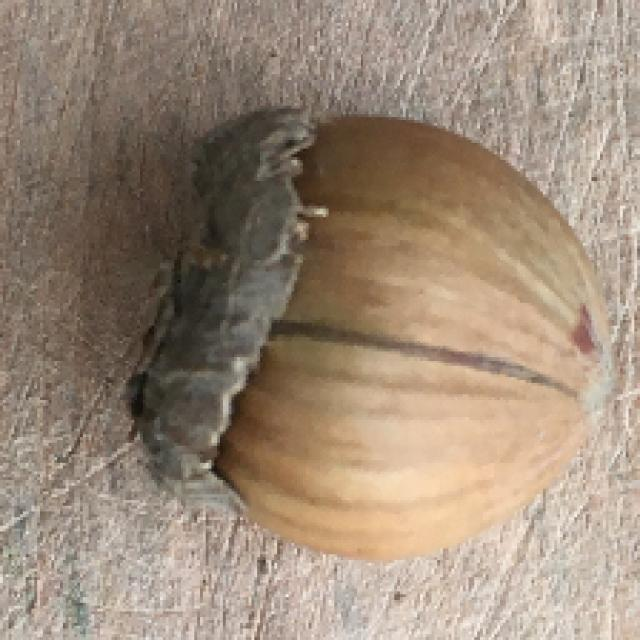DamagedHazelnut: (127, 107, 614, 561)
